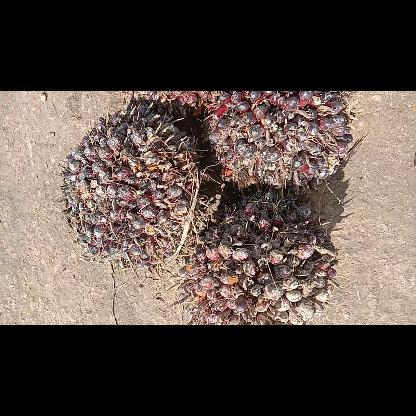Kurang masak: (59, 107, 206, 275), (180, 196, 340, 324), (206, 91, 358, 193)
